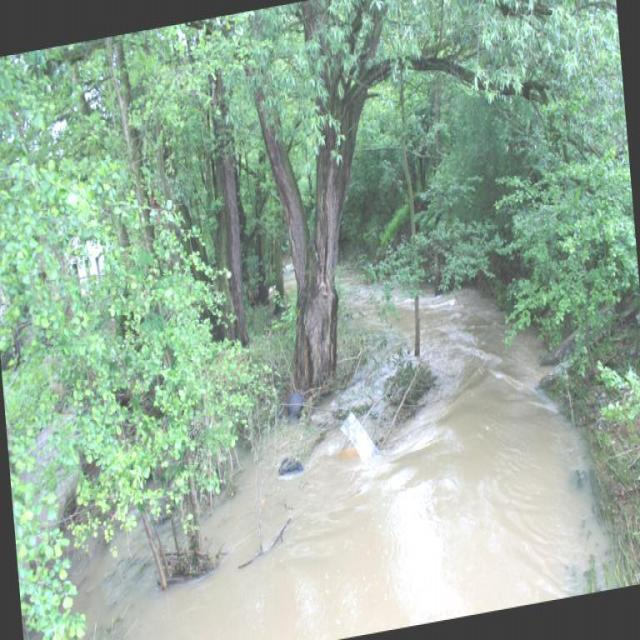flood: (80, 226, 606, 639)
